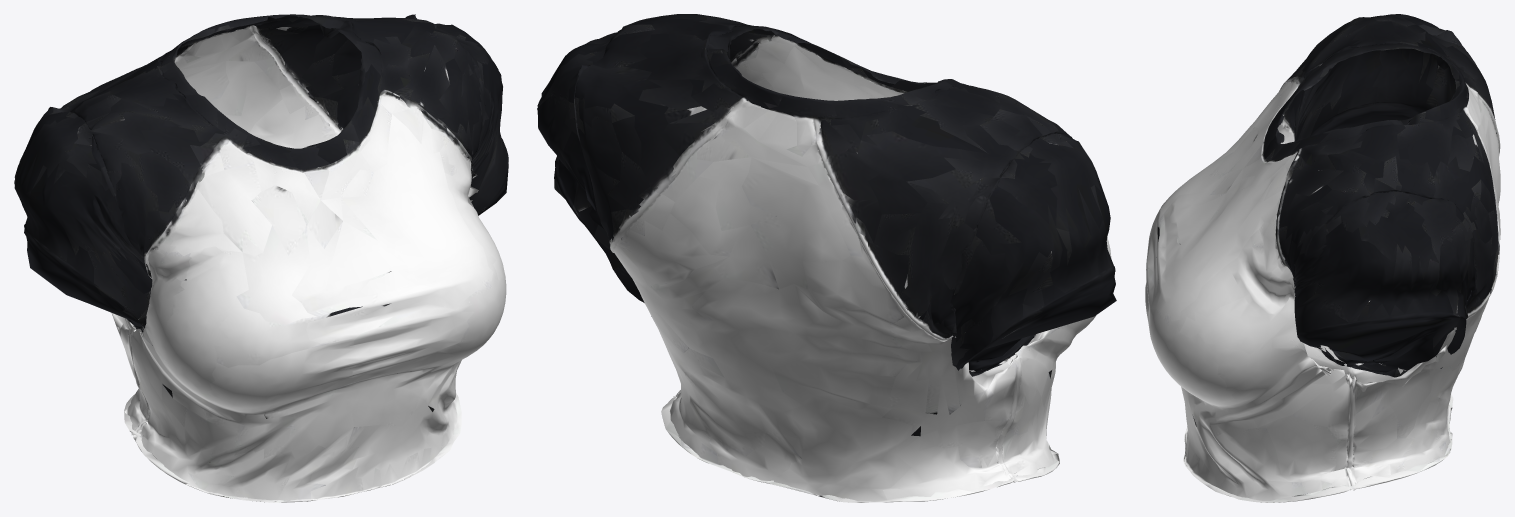
Rendered from top_f_croptee.glb.
The picture shows the model from 3 angles, left to right: view 1: azimuth 30°, elevation 25°; view 2: azimuth 150°, elevation 25°; view 3: azimuth 270°, elevation 25°; orthographic projection. The views are drawn at different scales.
Visible parts, largest first — view 1: f_croptee; view 2: f_croptee; view 3: f_croptee.
Part boxes in pixels (x1=…): f_croptee: x1=14, y1=14, x2=508, y2=502; f_croptee: x1=537, y1=14, x2=1116, y2=502; f_croptee: x1=1145, y1=14, x2=1500, y2=502.
Bounding box in the file's own units: 0.5289 × 0.3987 × 0.347.
Materials: 1 (1 with a texture image).
